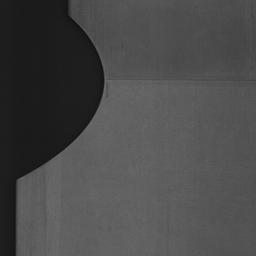Crescent gap: (18, 0, 104, 179)
